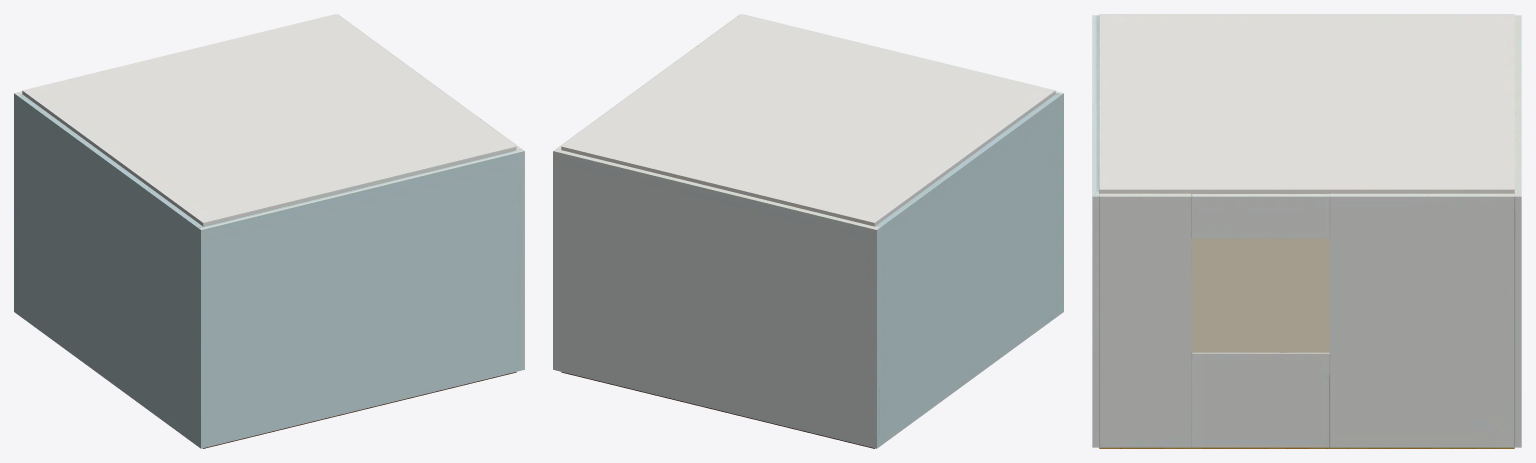
Rendered from room.glb.
The picture shows the model from 3 angles, left to right: view 1: azimuth 30°, elevation 25°; view 2: azimuth 150°, elevation 25°; view 3: azimuth 270°, elevation 25°; orthographic projection. The views are drawn at different scales.
Parts seen in each view (by area): view 1: RoomShell; view 2: RoomShell; view 3: RoomShell, RoomGlass, RoomFloor.
Part boxes in pixels (x1,y1,x2,y2): RoomShell: (14,14,524,448); RoomShell: (553,14,1063,448); RoomShell: (1092,14,1521,447); RoomGlass: (1191,238,1329,352); RoomFloor: (1099,447,1514,448).
Bounding box in the file's own units: 18.6 × 12.4 × 18.6.
7 materials, 6 textured.
